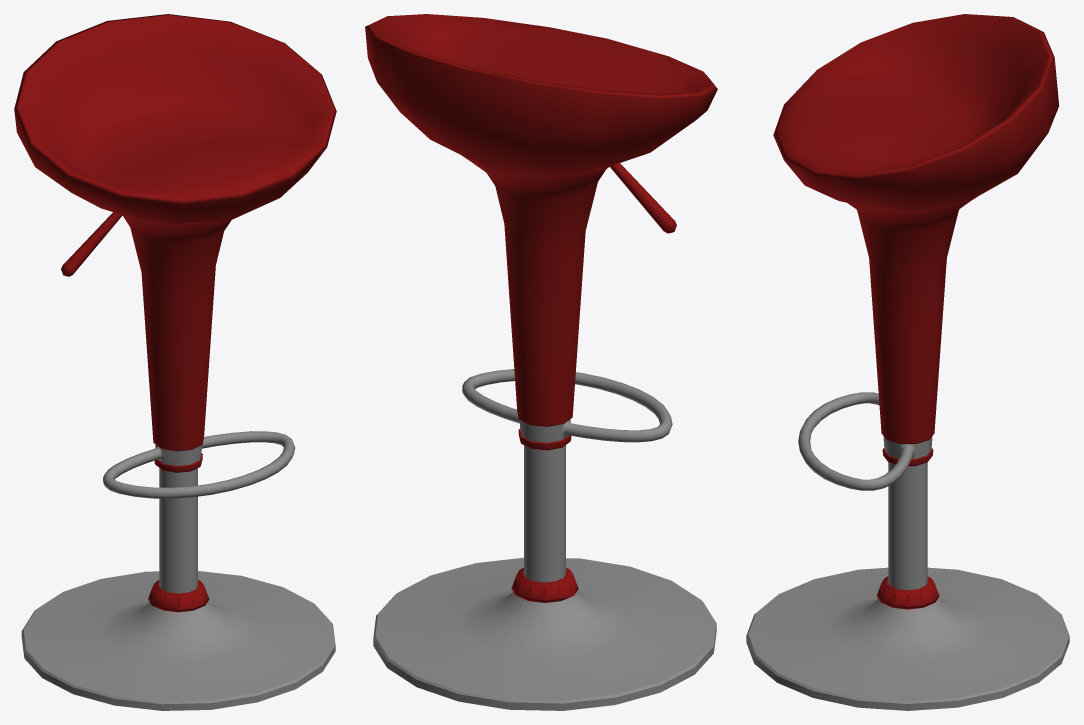
Rendered from barStool.fbx.
3 views of the same model, side by side, from view 1: azimuth 30°, elevation 25°; view 2: azimuth 150°, elevation 25°; view 3: azimuth 270°, elevation 25° (orthographic). The views are drawn at different scales.
Visible parts, largest first — view 1: seat, base, footrest, height, screw, handle; view 2: seat, base, height, footrest, screw, handle; view 3: seat, base, height, footrest, screw.
Boxes of the visible parts, x1,y1,x2,y2 form: seat: [14, 14, 336, 472]; base: [21, 571, 335, 710]; footrest: [103, 431, 295, 498]; height: [159, 468, 197, 593]; screw: [148, 580, 209, 612]; handle: [61, 212, 121, 276]; seat: [365, 14, 717, 450]; base: [373, 557, 716, 710]; height: [524, 445, 565, 582]; footrest: [462, 369, 672, 442]; screw: [511, 567, 578, 602]; handle: [610, 163, 676, 233]; seat: [773, 14, 1059, 466]; base: [746, 567, 1069, 710]; height: [888, 462, 927, 590]; footrest: [798, 392, 932, 490]; screw: [876, 576, 939, 609].
Size of the model in its own units: 42.79 by 80 by 40.
